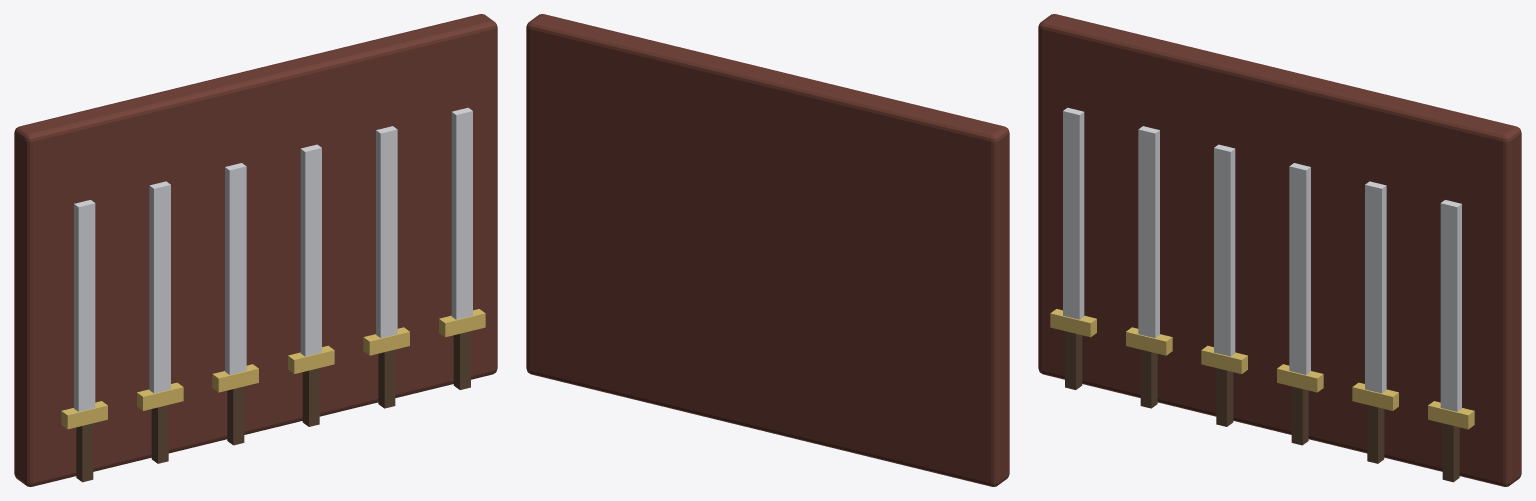
Rendered from wand_rack_wall_daggers.glb.
3 renders of one model, left to right at view 1: azimuth 30°, elevation 25°; view 2: azimuth 150°, elevation 25°; view 3: azimuth 330°, elevation 25°, orthographic.
Visible parts, largest first — view 1: GD_wand_rack_wall_daggers__m0, GD_wand_rack_wall_daggers__m1, GD_wand_rack_wall_daggers__m3, GD_wand_rack_wall_daggers__m2; view 2: GD_wand_rack_wall_daggers__m0; view 3: GD_wand_rack_wall_daggers__m0, GD_wand_rack_wall_daggers__m1, GD_wand_rack_wall_daggers__m3, GD_wand_rack_wall_daggers__m2.
Boxes of the visible parts, <box> form: GD_wand_rack_wall_daggers__m0: <box>14,14,497,486</box>; GD_wand_rack_wall_daggers__m1: <box>74,107,472,411</box>; GD_wand_rack_wall_daggers__m3: <box>76,331,470,482</box>; GD_wand_rack_wall_daggers__m2: <box>61,309,485,429</box>; GD_wand_rack_wall_daggers__m0: <box>526,14,1009,486</box>; GD_wand_rack_wall_daggers__m0: <box>1038,14,1521,486</box>; GD_wand_rack_wall_daggers__m1: <box>1063,107,1461,411</box>; GD_wand_rack_wall_daggers__m3: <box>1065,331,1459,482</box>; GD_wand_rack_wall_daggers__m2: <box>1050,309,1474,429</box>.
Size of the model in its own units: 0.7 by 0.5 by 0.073.
